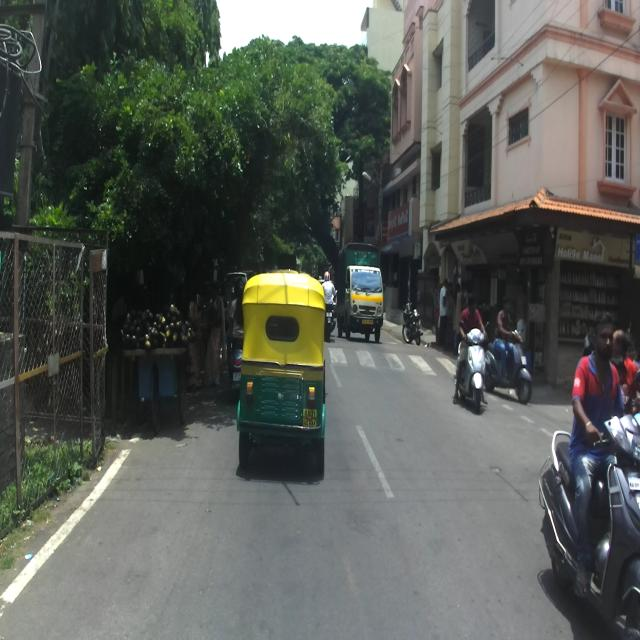auto ahead at: (237, 270, 328, 470), (343, 245, 388, 338)
motorcycle ahead at: (544, 407, 640, 640)
